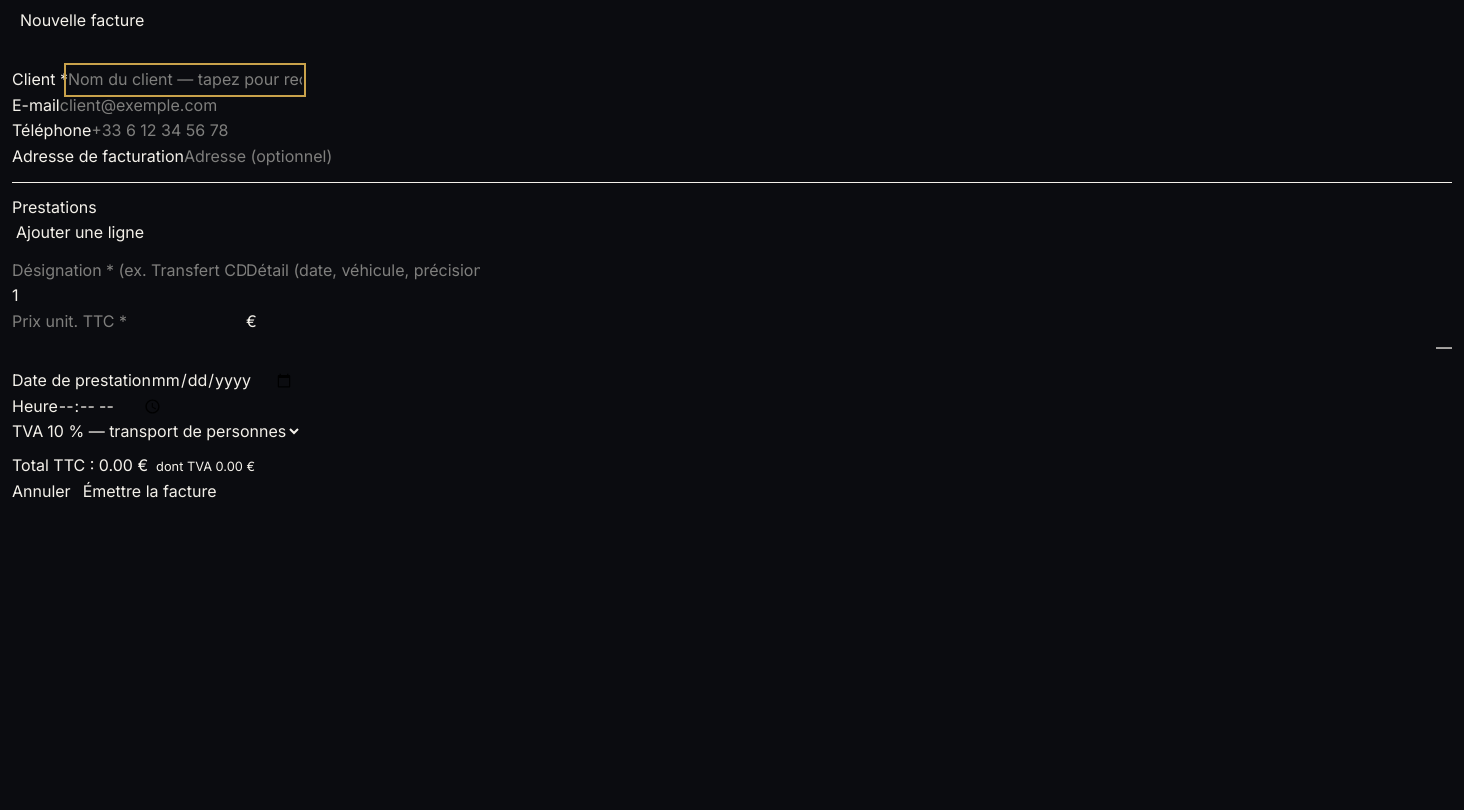
Scenario: NewInvoiceModal › sans ligne valide : erreur explicite, aucune émission
Type "X Y" into the field with placeholder "Nom du client — tapez pour rechercher…" at (185, 80), box 68,67 -> 302,93
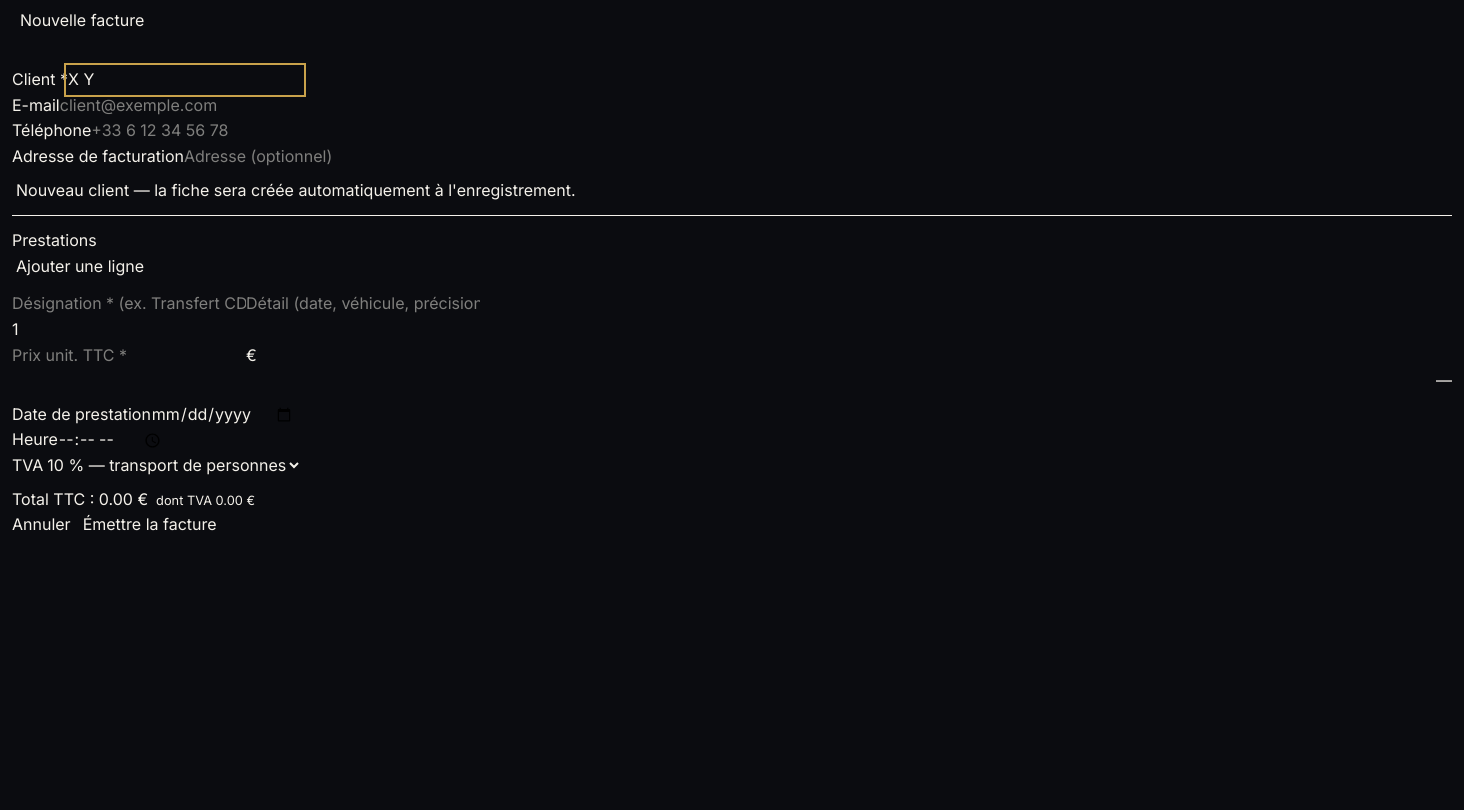
Click the button "Émettre la facture" at (148, 525), box 79,512 -> 217,538
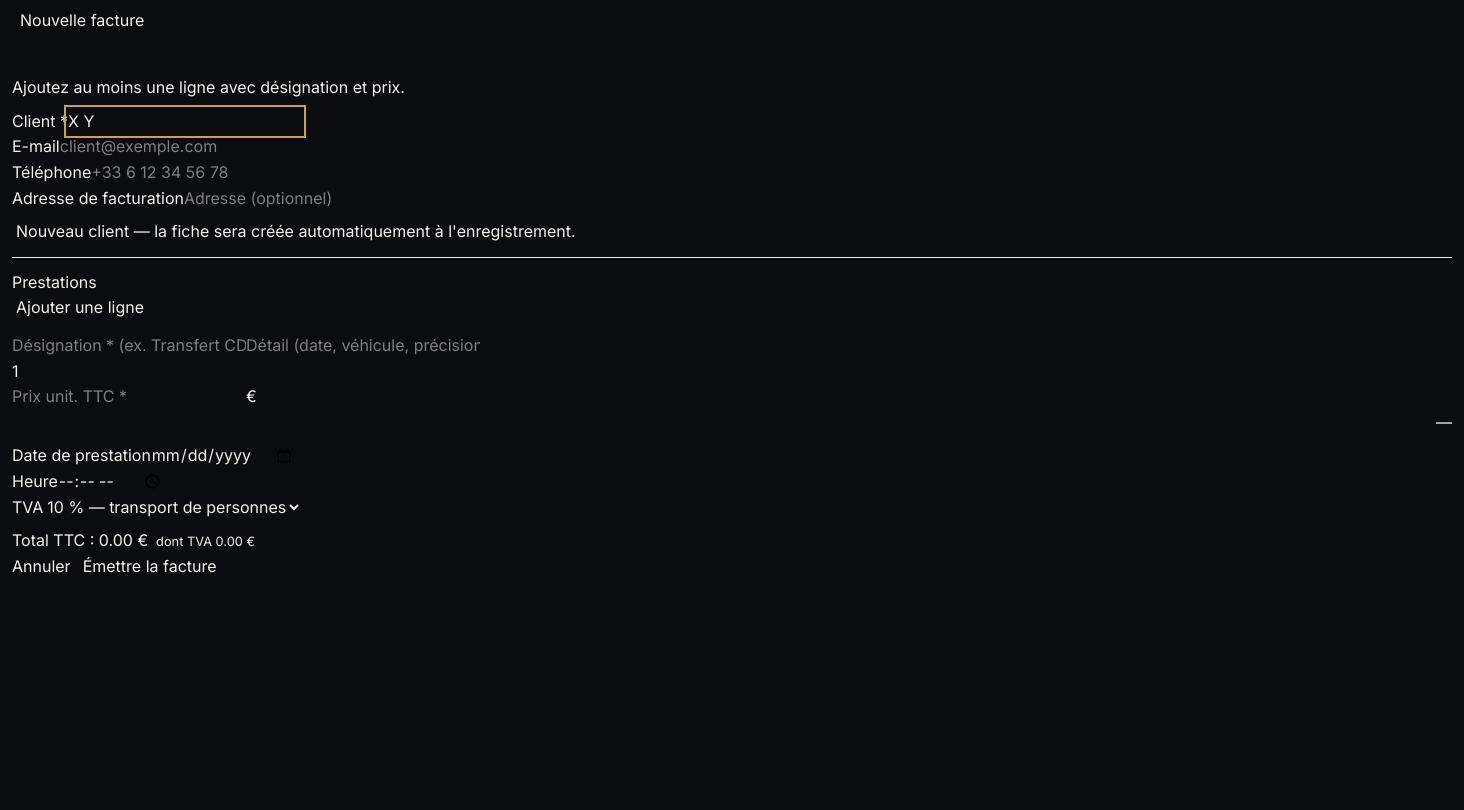
Expected: the text "Ajoutez au moins une ligne avec désignation et prix." is shown, 12,77 -> 405,97
